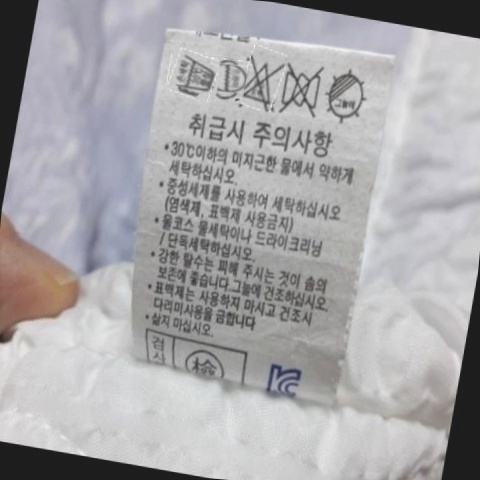DN_wring: (280, 62, 328, 116)
dry_clean: (214, 59, 247, 96)
hand_wash: (172, 50, 219, 95)
non_chlorine_bleach: (242, 55, 281, 108)
shade_dry: (323, 67, 372, 127)
